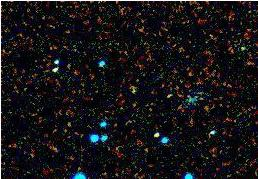star: (139, 118, 169, 148)
